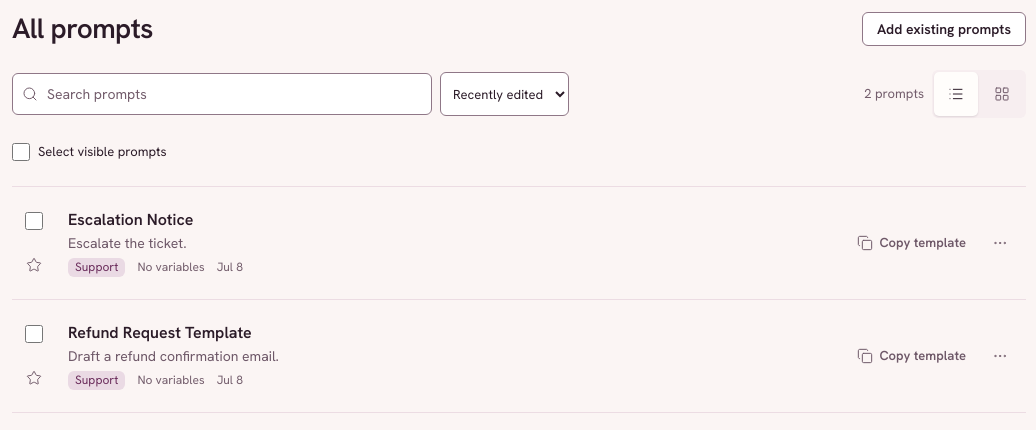
Test: LibraryPage › matches every search word in any order, across title, folder and sections
expect the heading "All prompts" is shown: met, box [12,12,153,46]
Type "email refund" into the search field labelled "Search prompts" at {"x": 222, "y": 94}, box [12,73,432,115]
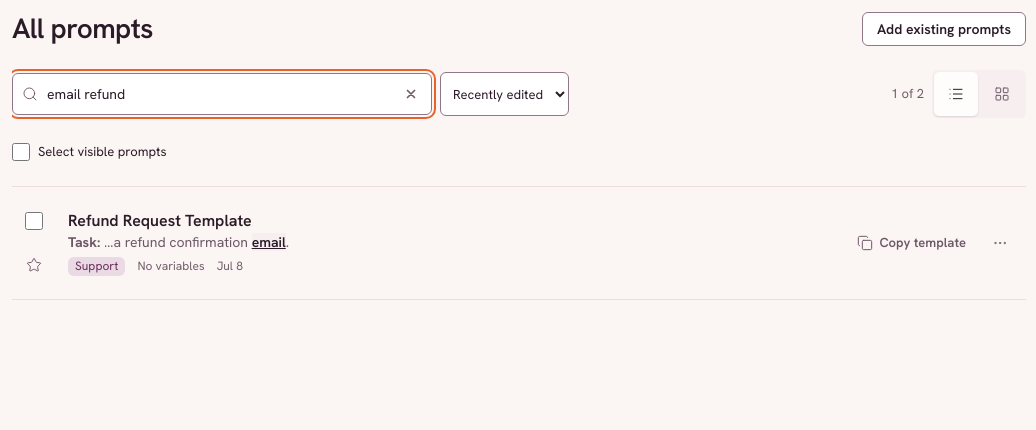
expect the text "email" is shown: met, box [252,233,286,251]
Replace the text in the search field named "Search prompts" with "  escalation   notice " at {"x": 222, "y": 94}, box [12,73,432,115]
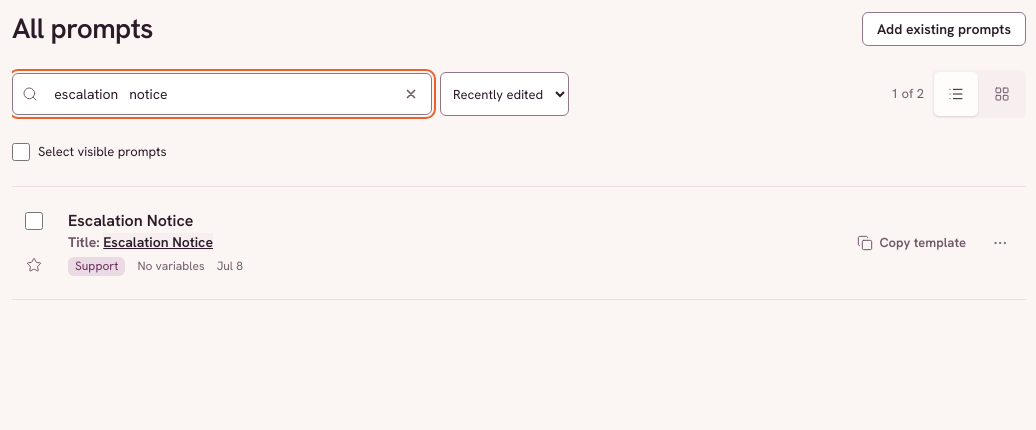
expect the text "Escalation Notice" is shown: met, box [103,233,213,251]
Replace the text in the search field named "Search prompts" with "support ticket" at {"x": 222, "y": 94}, box [12,73,432,115]
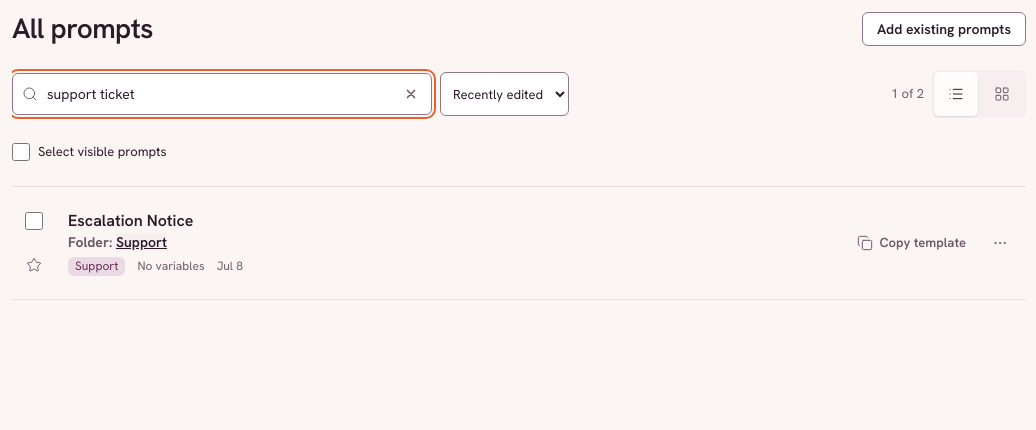
Replace the text in the search field named "Search prompts" with "refund ticket" at {"x": 222, "y": 94}, box [12,73,432,115]
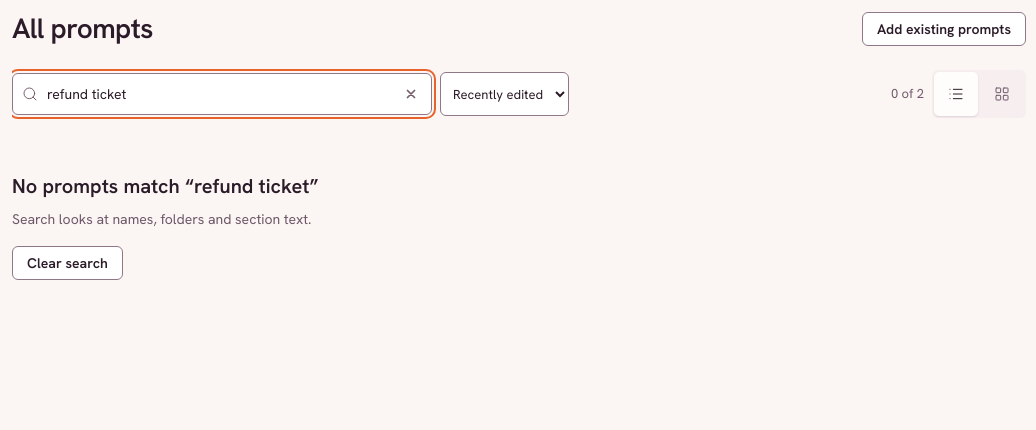
expect the heading "No prompts match “refund ticket”" is shown: met, box [12,173,318,199]
